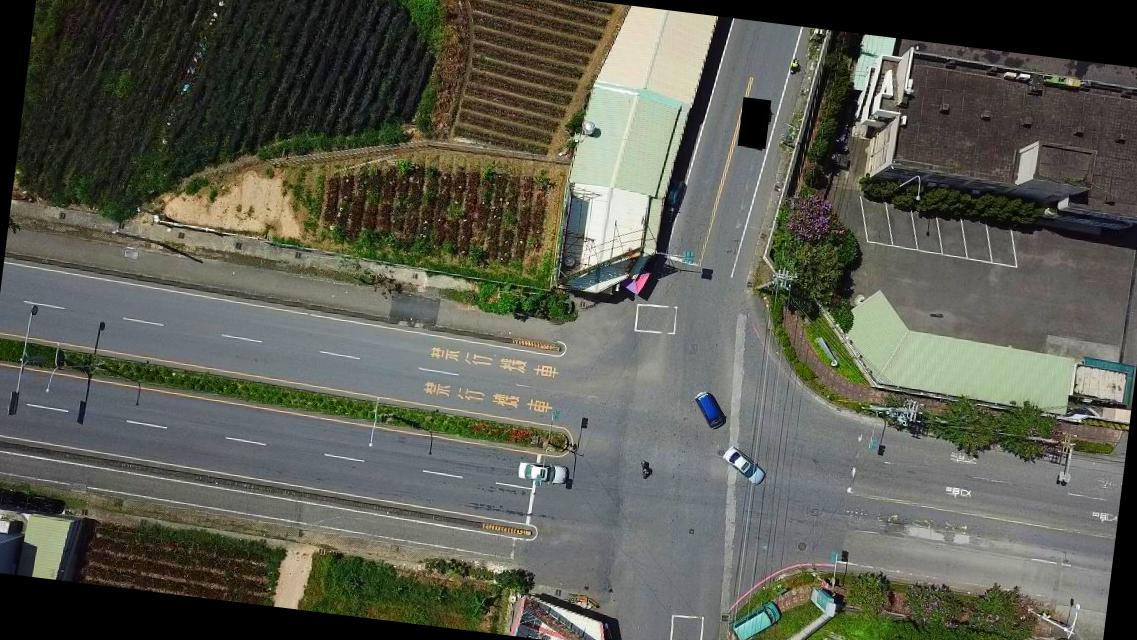vehicle: (730, 595, 784, 639), (721, 443, 767, 485), (691, 389, 728, 430), (518, 458, 571, 486)
